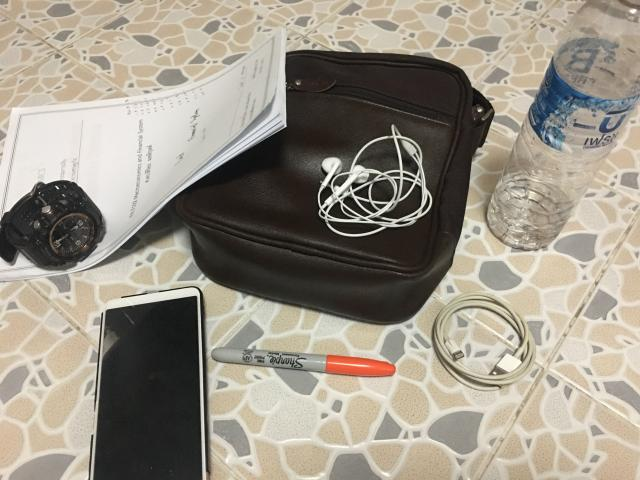Mobile phone: (90, 288, 208, 479)
Pen: (211, 348, 395, 376)
Watch: (0, 180, 104, 266)
bottle: (488, 0, 640, 250)
paper: (0, 29, 286, 281)
wire: (318, 125, 432, 238), (434, 291, 536, 391)
